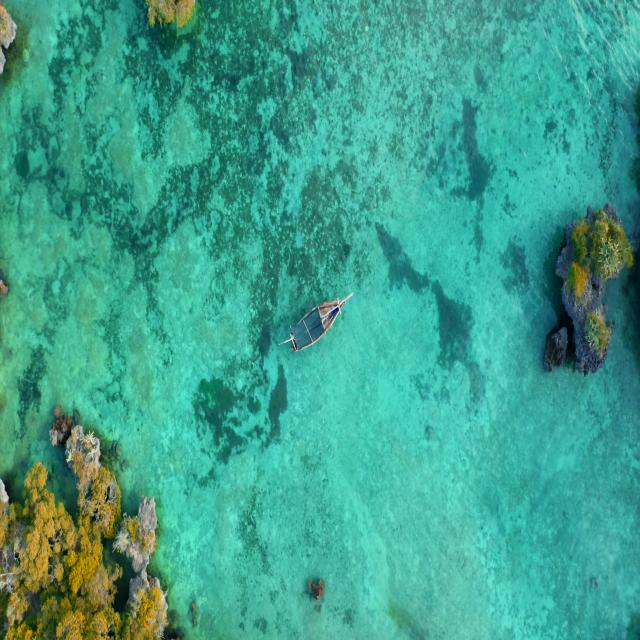ship: (283, 276, 355, 362)
